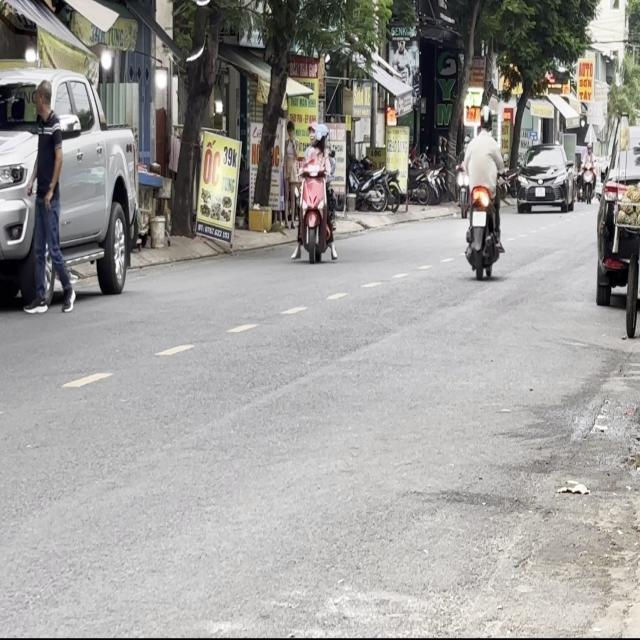helmet: (312, 122, 328, 148)
licenseplate: (292, 120, 338, 265)
motorcyclist: (33, 77, 54, 121)
